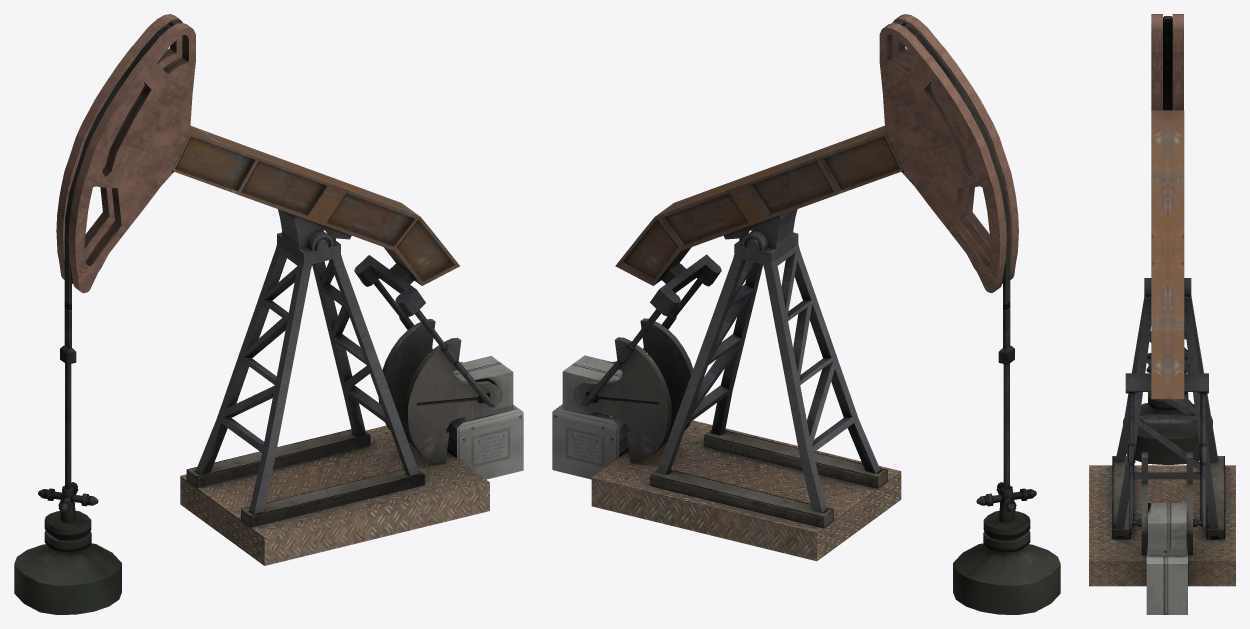
File: lm-pumpJack.glb
The picture shows the model from 3 angles, left to right: view 1: azimuth 30°, elevation 25°; view 2: azimuth 150°, elevation 25°; view 3: azimuth 270°, elevation 25°; orthographic projection. The views are drawn at different scales.
Visible parts, largest first — view 1: Oil Pump; view 2: Oil Pump; view 3: Oil Pump.
Boxes of the visible parts, box(x1,y1,x2,y2) form: Oil Pump: box(14, 14, 523, 614); Oil Pump: box(552, 14, 1060, 614); Oil Pump: box(1089, 14, 1235, 614).
Bounding box in the file's own units: 4.43 × 4.74 × 1.33.
Materials: 1 (1 with a texture image).
